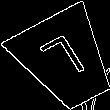L_SE: (37, 31, 94, 90)
